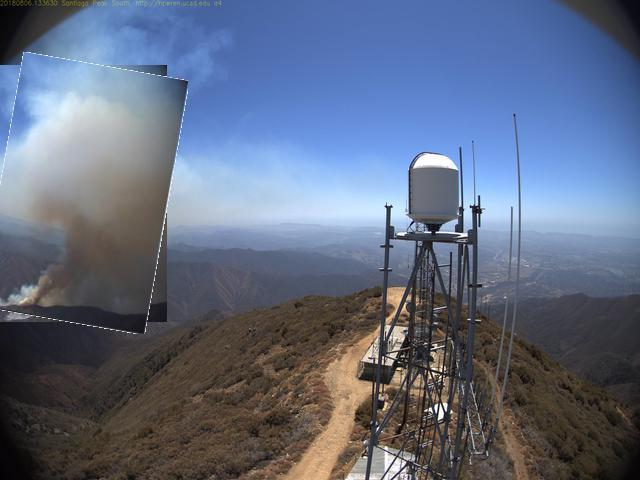smoke: (1, 59, 180, 331)
